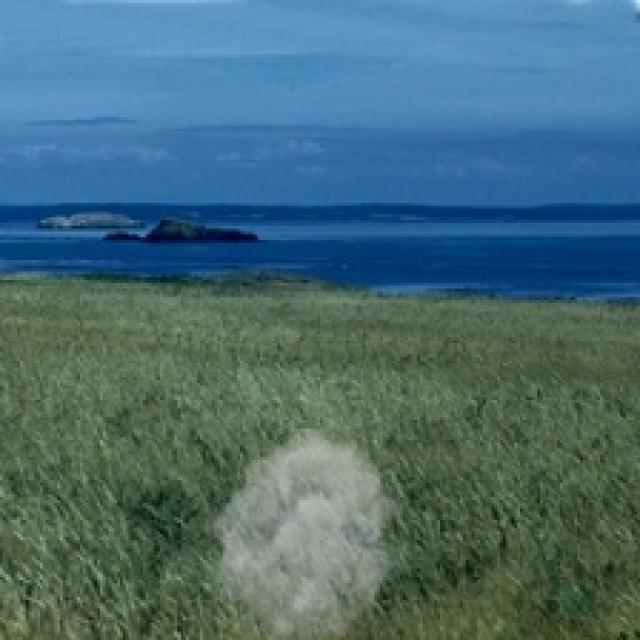smoke: (203, 429, 408, 637)
